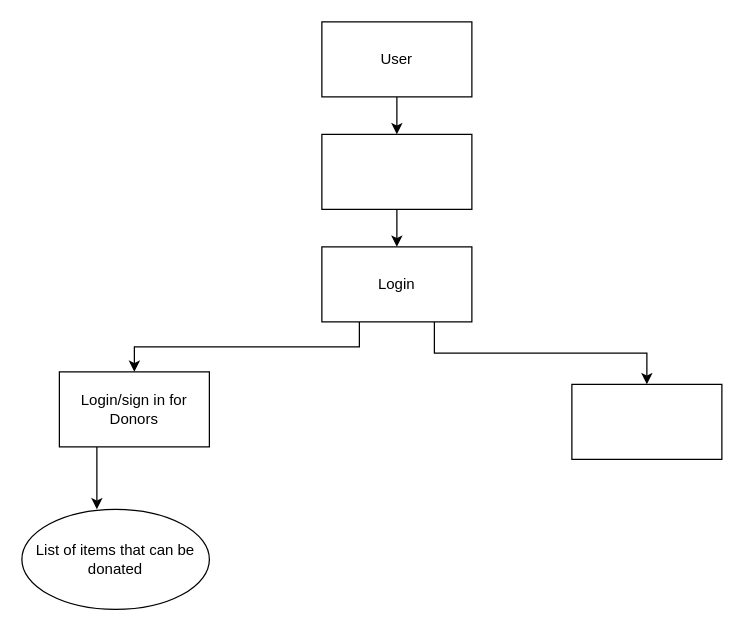
The diagram is 744 pixels wide and 631 high, and some of its shapes have lost their labels. Each missing label, with the centre of its shape:
"Community Connect" goes at [396,171].
"Login/sign in for NGO" goes at [646,421].
